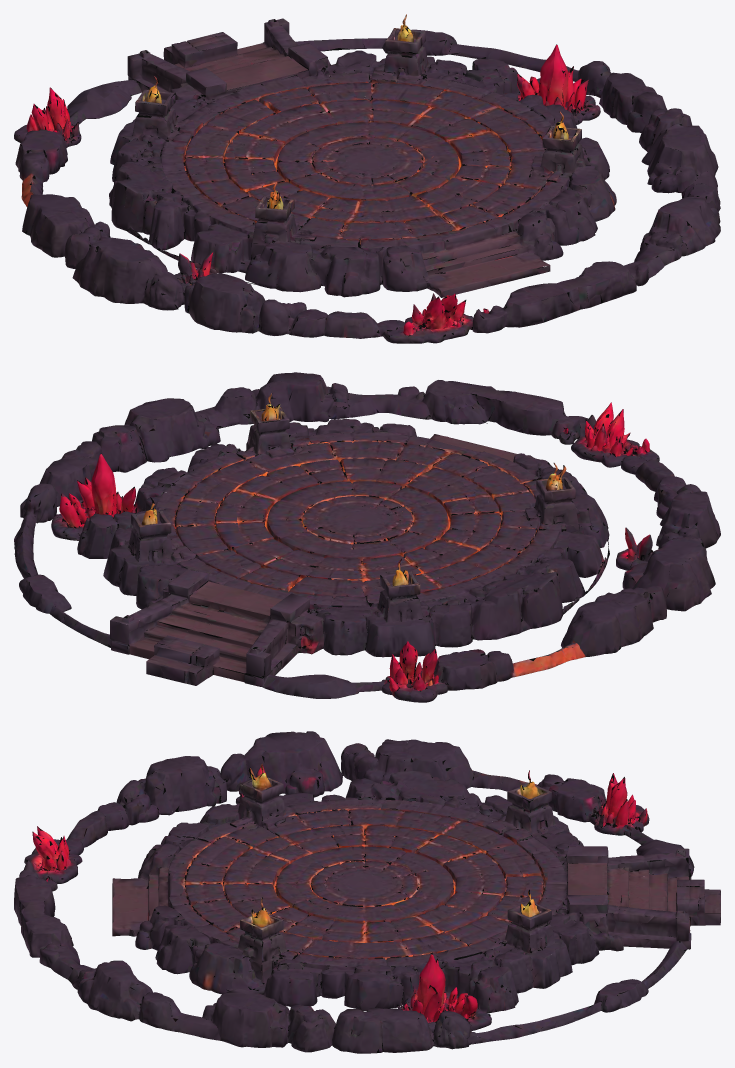
The model's file is FireThrone.glb.
The picture shows the model from 3 angles, top to bottom: view 1: azimuth 30°, elevation 25°; view 2: azimuth 150°, elevation 25°; view 3: azimuth 270°, elevation 25°; orthographic projection. The views are drawn at different scales.
Parts seen in each view (by area): view 1: Part0, Part2, Part3, Part1, Part4, Part5, Part6, Part7; view 2: Part0, Part2, Part1, Part3, Part4, Part5, Part6, Part7; view 3: Part0, Part2, Part3, Part1, Part4, Part5, Part6, Part7.
Part boxes in pixels (box(x1,y1,x2,y2)): Part0: box(19, 23, 720, 335); Part2: box(15, 18, 703, 339); Part3: box(14, 23, 720, 339); Part1: box(20, 28, 712, 343); Part4: box(17, 18, 715, 343); Part5: box(16, 15, 716, 341); Part6: box(25, 14, 710, 342); Part7: box(15, 19, 707, 343); Part0: box(14, 372, 720, 697); Part2: box(19, 375, 719, 702); Part1: box(14, 380, 716, 698); Part3: box(18, 378, 713, 702); Part4: box(15, 379, 706, 700); Part5: box(17, 380, 701, 698); Part6: box(15, 384, 711, 701); Part7: box(17, 383, 717, 699); Part0: box(16, 731, 694, 1053); Part2: box(14, 739, 720, 1053); Part3: box(14, 744, 720, 1052); Part1: box(21, 733, 720, 1052); Part4: box(14, 747, 720, 1051); Part5: box(14, 743, 708, 1052); Part6: box(19, 736, 720, 1046); Part7: box(23, 732, 720, 1052).
Size of the model in its own units: 1.86 by 0.2399 by 1.9.
8 materials, 8 textured.
